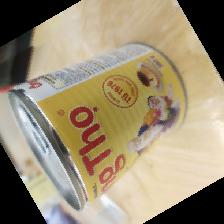Ong_tho: (6, 42, 187, 212)
